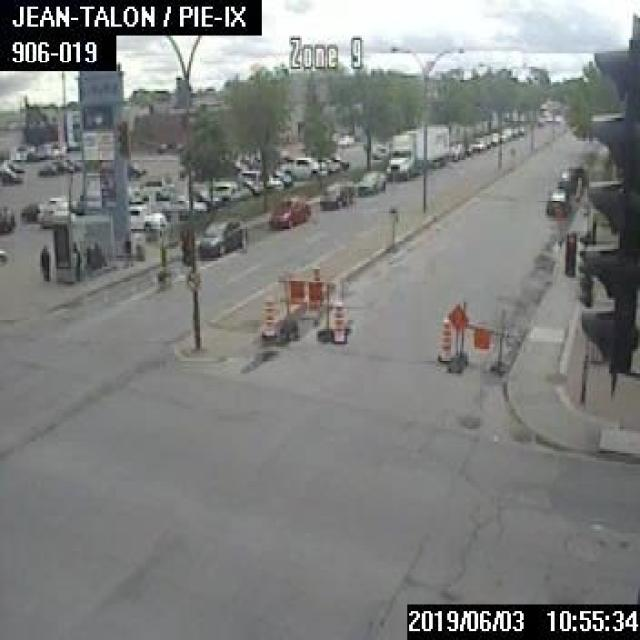construction: (444, 299, 508, 375), (273, 266, 333, 341), (331, 299, 347, 344), (259, 294, 275, 337), (436, 315, 450, 362)
pedestrian: (85, 239, 104, 268), (36, 245, 49, 282), (69, 242, 80, 278), (120, 231, 131, 266)
vehicle: (384, 122, 448, 178), (195, 215, 246, 257), (268, 197, 310, 228), (277, 154, 326, 177), (318, 176, 352, 208), (126, 203, 165, 228), (135, 174, 174, 197), (544, 187, 570, 215), (200, 182, 233, 203), (356, 170, 385, 193), (236, 168, 262, 192), (161, 194, 188, 217), (561, 164, 585, 186), (270, 168, 291, 186), (316, 156, 339, 172), (258, 173, 282, 188), (0, 166, 20, 183), (0, 206, 13, 232), (126, 160, 144, 176), (448, 142, 465, 158), (328, 155, 347, 168), (36, 161, 55, 173), (468, 135, 484, 149), (4, 160, 23, 171), (498, 126, 512, 140), (489, 130, 497, 142), (482, 133, 489, 146), (0, 247, 5, 265), (509, 126, 516, 136), (517, 125, 522, 134)
